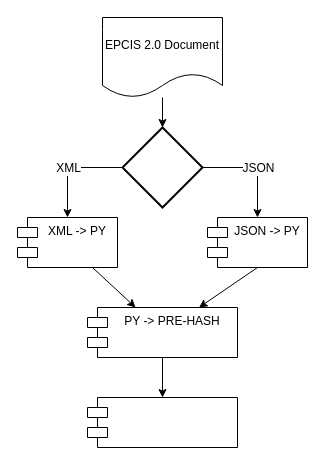
Some shapes in this 325 by 465 pixel diagram are drawn without their labels. Each missing label, with the centre of its shape:
Format: the point at 162,167
PRE-HASH -> NI: the point at 162,422
